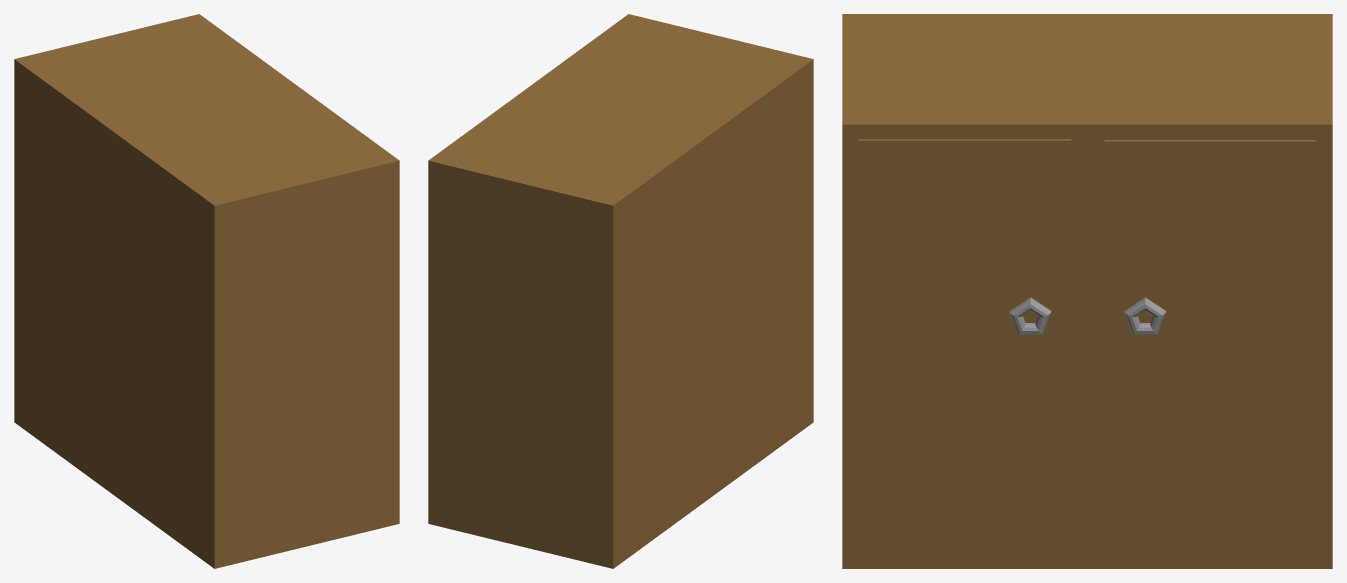
The model's file is KleinerSchrank.fbx.
3 views of the same model, side by side, from view 1: azimuth 30°, elevation 25°; view 2: azimuth 150°, elevation 25°; view 3: azimuth 270°, elevation 25° (orthographic). The views are drawn at different scales.
Visible parts, largest first — view 1: Cube.009; view 2: Cube.009; view 3: Cube.009.
Part boxes in pixels (box(x1,y1,x2,y2)): Cube.009: box(14, 14, 399, 568); Cube.009: box(428, 14, 813, 568); Cube.009: box(842, 14, 1332, 568).
Size of the model in its own units: 68.61 by 120 by 120.
